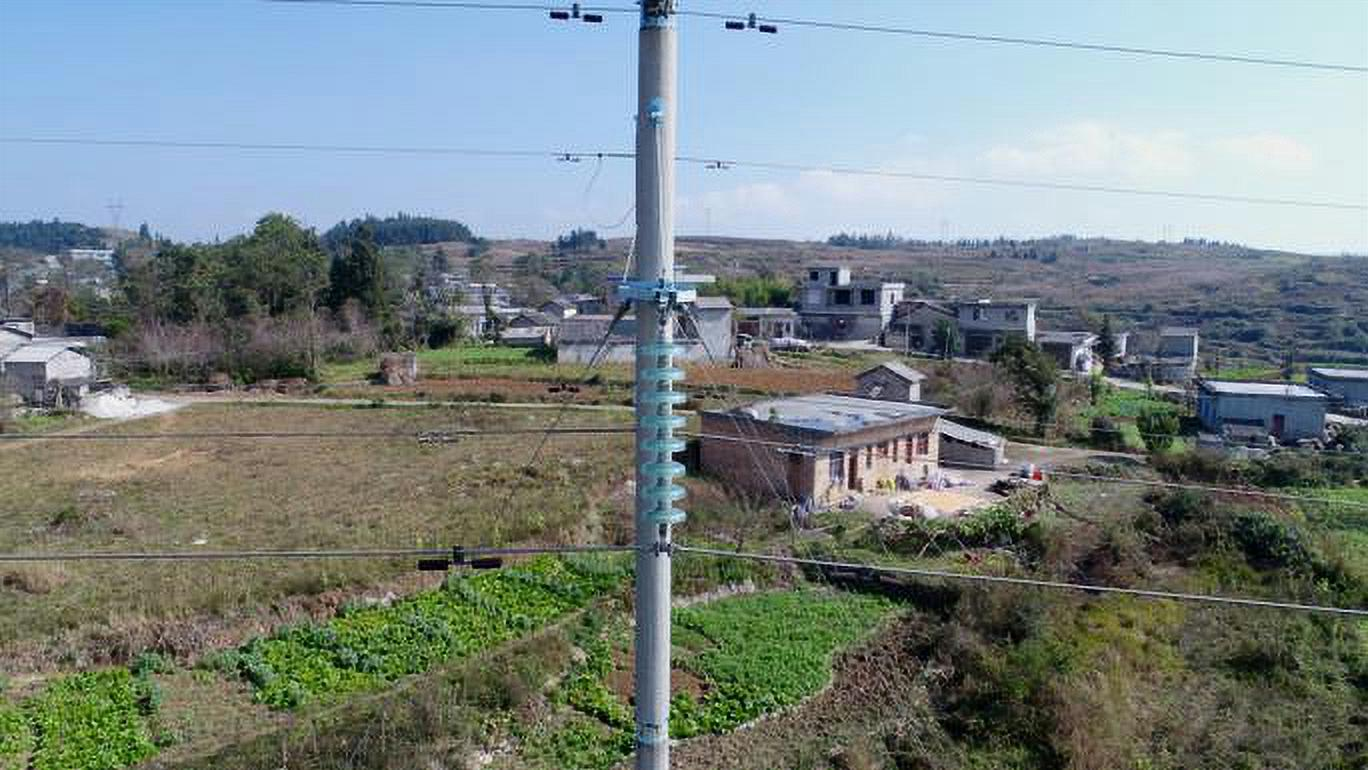insulator: (629, 336, 690, 529)
